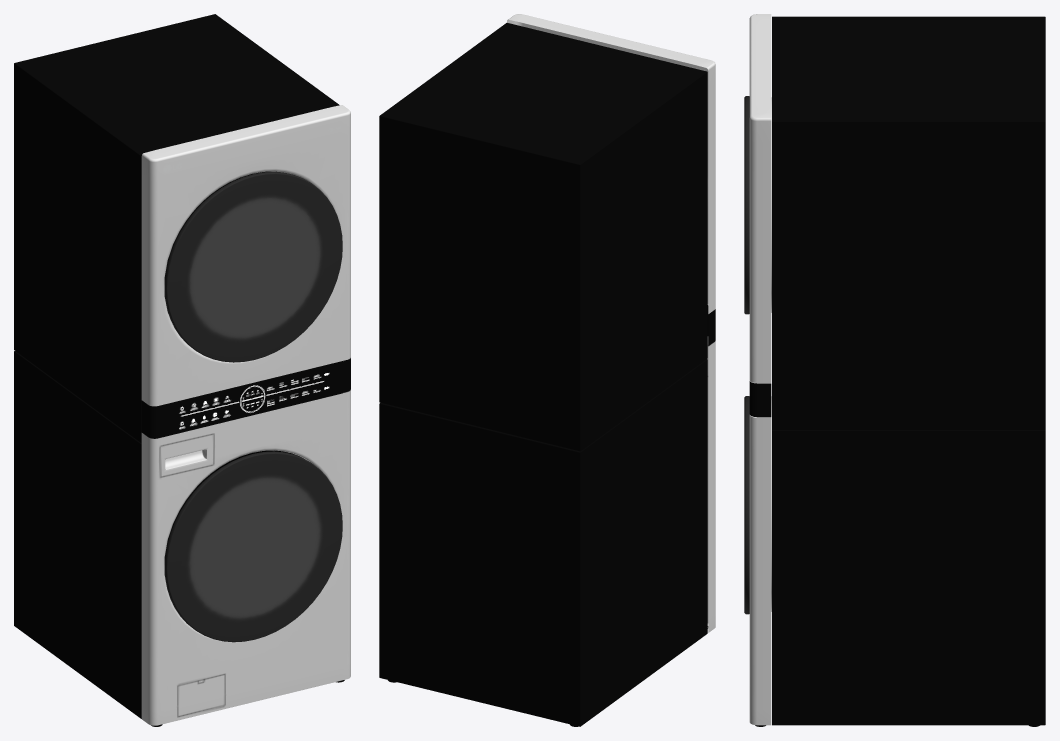
File: washTower.glb
3 views of the same model, side by side, from view 1: azimuth 30°, elevation 25°; view 2: azimuth 150°, elevation 25°; view 3: azimuth 270°, elevation 25° (orthographic). The views are drawn at different scales.
Parts seen in each view (by area): view 1: Cube.001; view 2: Cube.001; view 3: Cube.001.
Boxes of the visible parts, box(x1,y1,x2,y2) form: Cube.001: box(14, 14, 350, 726); Cube.001: box(379, 14, 715, 726); Cube.001: box(744, 14, 1045, 726).
Size of the model in its own units: 3.88 by 10.48 by 4.68.
1 material, 1 textured.
